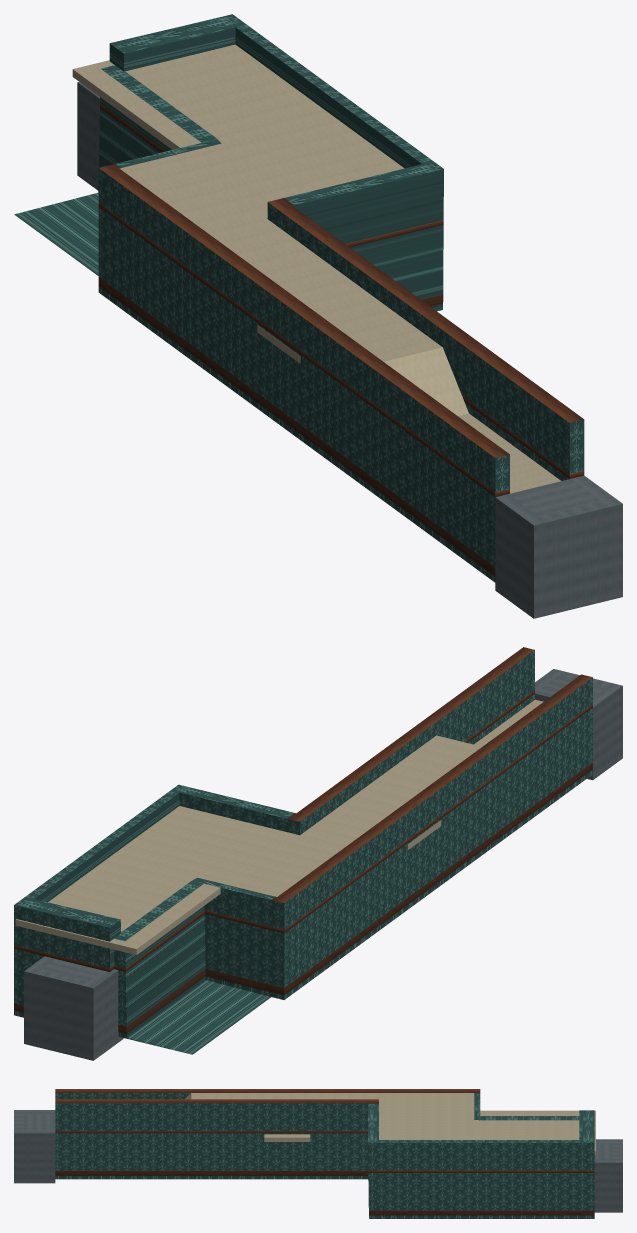
Rendered from Level5.fbx.
3 views of the same model, one above another, from view 1: azimuth 30°, elevation 25°; view 2: azimuth 150°, elevation 25°; view 3: azimuth 270°, elevation 25° (orthographic). The views are drawn at different scales.
Visible parts, largest first — view 1: Cube, Cube.002, Cube.001, Cube.005, Cube.007, Cube.004, Cube.003, Cube.015, Cube.014; view 2: Cube, Cube.002, Cube.001, Cube.014, Cube.007, Cube.015, Cube.005, Cube.013; view 3: Cube.001, Cube.002, Cube, Cube.006, Cube.016, Cube.014, Cube.005, Cube.004, Cube.011, Cube.013.
Part boxes in pixels (x1=…): Cube: x1=14, y1=65, x2=509, y2=582; Cube.002: x1=72, y1=44, x2=560, y2=493; Cube.001: x1=109, y1=14, x2=584, y2=480; Cube.005: x1=525, y1=497, x2=622, y2=618; Cube.007: x1=495, y1=494, x2=537, y2=611; Cube.004: x1=509, y1=479, x2=600, y2=515; Cube.003: x1=410, y1=441, x2=495, y2=581; Cube.015: x1=86, y1=88, x2=99, y2=190; Cube.014: x1=77, y1=82, x2=87, y2=181; Cube: x1=114, y1=674, x2=592, y2=1054; Cube.002: x1=15, y1=699, x2=543, y2=954; Cube.001: x1=14, y1=647, x2=534, y2=1017; Cube.014: x1=24, y1=966, x2=100, y2=1060; Cube.007: x1=587, y1=688, x2=616, y2=780; Cube.015: x1=90, y1=969, x2=123, y2=1055; Cube.005: x1=547, y1=669, x2=622, y2=762; Cube.013: x1=42, y1=959, x2=103, y2=980; Cube.001: x1=55, y1=1099, x2=594, y2=1218; Cube.002: x1=184, y1=1093, x2=595, y2=1155; Cube: x1=55, y1=1089, x2=579, y2=1120; Cube.006: x1=23, y1=1130, x2=55, y2=1183; Cube.016: x1=594, y1=1159, x2=613, y2=1212; Cube.014: x1=613, y1=1139, x2=622, y2=1212; Cube.005: x1=14, y1=1110, x2=23, y2=1183; Cube.004: x1=23, y1=1113, x2=55, y2=1129; Cube.011: x1=264, y1=1134, x2=310, y2=1141; Cube.013: x1=594, y1=1143, x2=613, y2=1159.
Size of the model in its own units: 6477 by 3868 by 26498.
7 materials, 7 textured.
